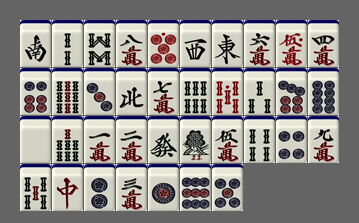0m: (276, 20, 307, 67)
0p: (148, 20, 179, 67)
0s: (212, 68, 243, 115)
1m: (84, 116, 115, 163)
1p: (148, 164, 179, 211)
1s: (180, 116, 211, 163)
1z: (212, 20, 243, 67)
2m: (116, 116, 147, 163)
2p: (84, 164, 115, 211)
2s: (52, 20, 83, 67)
2z: (20, 20, 51, 67)
3m: (116, 164, 147, 211)
3p: (84, 68, 115, 115)
3s: (244, 68, 275, 115)
3z: (180, 20, 211, 67)
4m: (308, 20, 339, 67)
4p: (276, 116, 307, 163)
4s: (244, 116, 275, 163)
4z: (116, 68, 147, 115)
5m: (212, 116, 243, 163)
5p: (212, 164, 243, 211)
5s: (20, 164, 51, 211)
5z: (20, 116, 51, 163)
6m: (244, 20, 275, 67)
6p: (20, 68, 51, 115)
6s: (180, 68, 211, 115)
6z: (148, 116, 179, 163)
7m: (148, 68, 179, 115)
7p: (276, 68, 307, 115)
7s: (52, 116, 83, 163)
7z: (52, 164, 83, 211)
8m: (116, 20, 147, 67)
8p: (308, 68, 339, 115)
8s: (84, 20, 115, 67)
9m: (308, 116, 339, 163)
9p: (180, 164, 211, 211)
9s: (52, 68, 83, 115)
